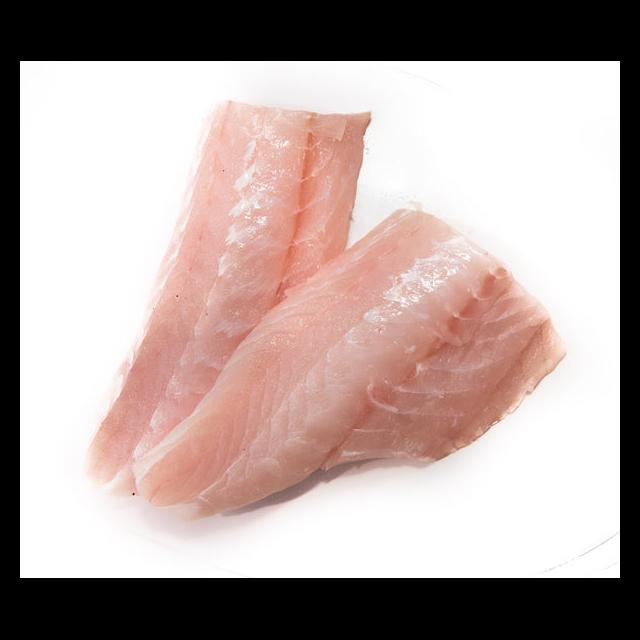fish: (122, 200, 570, 532)
